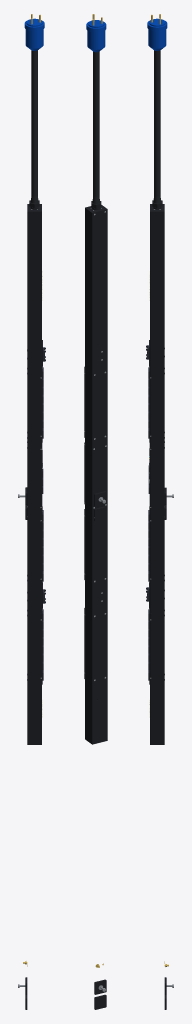
Rendered from gspe_pdu_apdu9953.glb.
3 views of the same model, side by side, from view 1: azimuth 90°, elevation 25°; view 2: azimuth 210°, elevation 25°; view 3: azimuth 270°, elevation 25° (orthographic).
Visible parts, largest first — view 1: LAYER_housing__ROLE_shell__MAT_mat_chassis_powdercoat, LAYER_power__ROLE_main__MAT_mat_rubber_black, LAYER_outlet_banks__ROLE_front__MAT_mat_chassis_powdercoat, LAYER_power__ROLE_main__MAT_mat_plug_blue, LAYER_outlet_banks__ROLE_outlets__MAT_mat_polyamide_dark, LAYER_mounting__ROLE_main__MAT_mat_chassis_powdercoat, LAYER_nmc3__ROLE_front__MAT_mat_chassis_powdercoat; view 2: LAYER_housing__ROLE_shell__MAT_mat_chassis_powdercoat, LAYER_power__ROLE_main__MAT_mat_rubber_black, LAYER_mounting__ROLE_main__MAT_mat_chassis_powdercoat, LAYER_power__ROLE_main__MAT_mat_plug_blue, LAYER_outlet_banks__ROLE_front__MAT_mat_chassis_powdercoat; view 3: LAYER_housing__ROLE_shell__MAT_mat_chassis_powdercoat, LAYER_power__ROLE_main__MAT_mat_rubber_black, LAYER_outlet_banks__ROLE_front__MAT_mat_chassis_powdercoat, LAYER_power__ROLE_main__MAT_mat_plug_blue, LAYER_outlet_banks__ROLE_outlets__MAT_mat_polyamide_dark, LAYER_mounting__ROLE_main__MAT_mat_chassis_powdercoat, LAYER_nmc3__ROLE_front__MAT_mat_chassis_powdercoat.
Boxes of the visible parts, x1=… form: LAYER_housing__ROLE_shell__MAT_mat_chassis_powdercoat: x1=27, y1=204, x2=41, y2=744; LAYER_power__ROLE_main__MAT_mat_rubber_black: x1=30, y1=50, x2=38, y2=203; LAYER_outlet_banks__ROLE_front__MAT_mat_chassis_powdercoat: x1=40, y1=366, x2=42, y2=684; LAYER_power__ROLE_main__MAT_mat_plug_blue: x1=24, y1=18, x2=44, y2=50; LAYER_outlet_banks__ROLE_outlets__MAT_mat_polyamide_dark: x1=42, y1=367, x2=43, y2=680; LAYER_mounting__ROLE_main__MAT_mat_chassis_powdercoat: x1=25, y1=487, x2=27, y2=1009; LAYER_nmc3__ROLE_front__MAT_mat_chassis_powdercoat: x1=40, y1=443, x2=42, y2=509; LAYER_housing__ROLE_shell__MAT_mat_chassis_powdercoat: x1=85, y1=205, x2=107, y2=744; LAYER_power__ROLE_main__MAT_mat_rubber_black: x1=92, y1=51, x2=99, y2=203; LAYER_mounting__ROLE_main__MAT_mat_chassis_powdercoat: x1=94, y1=491, x2=106, y2=1009; LAYER_power__ROLE_main__MAT_mat_plug_blue: x1=86, y1=20, x2=106, y2=52; LAYER_outlet_banks__ROLE_front__MAT_mat_chassis_powdercoat: x1=84, y1=366, x2=85, y2=679; LAYER_housing__ROLE_shell__MAT_mat_chassis_powdercoat: x1=150, y1=204, x2=164, y2=744; LAYER_power__ROLE_main__MAT_mat_rubber_black: x1=153, y1=50, x2=161, y2=203; LAYER_outlet_banks__ROLE_front__MAT_mat_chassis_powdercoat: x1=149, y1=366, x2=151, y2=684; LAYER_power__ROLE_main__MAT_mat_plug_blue: x1=147, y1=18, x2=167, y2=50; LAYER_outlet_banks__ROLE_outlets__MAT_mat_polyamide_dark: x1=148, y1=367, x2=149, y2=680; LAYER_mounting__ROLE_main__MAT_mat_chassis_powdercoat: x1=164, y1=487, x2=166, y2=1009; LAYER_nmc3__ROLE_front__MAT_mat_chassis_powdercoat: x1=149, y1=443, x2=151, y2=509.
Bounding box in the file's own units: 0.062 × 3.4 × 0.0864.
